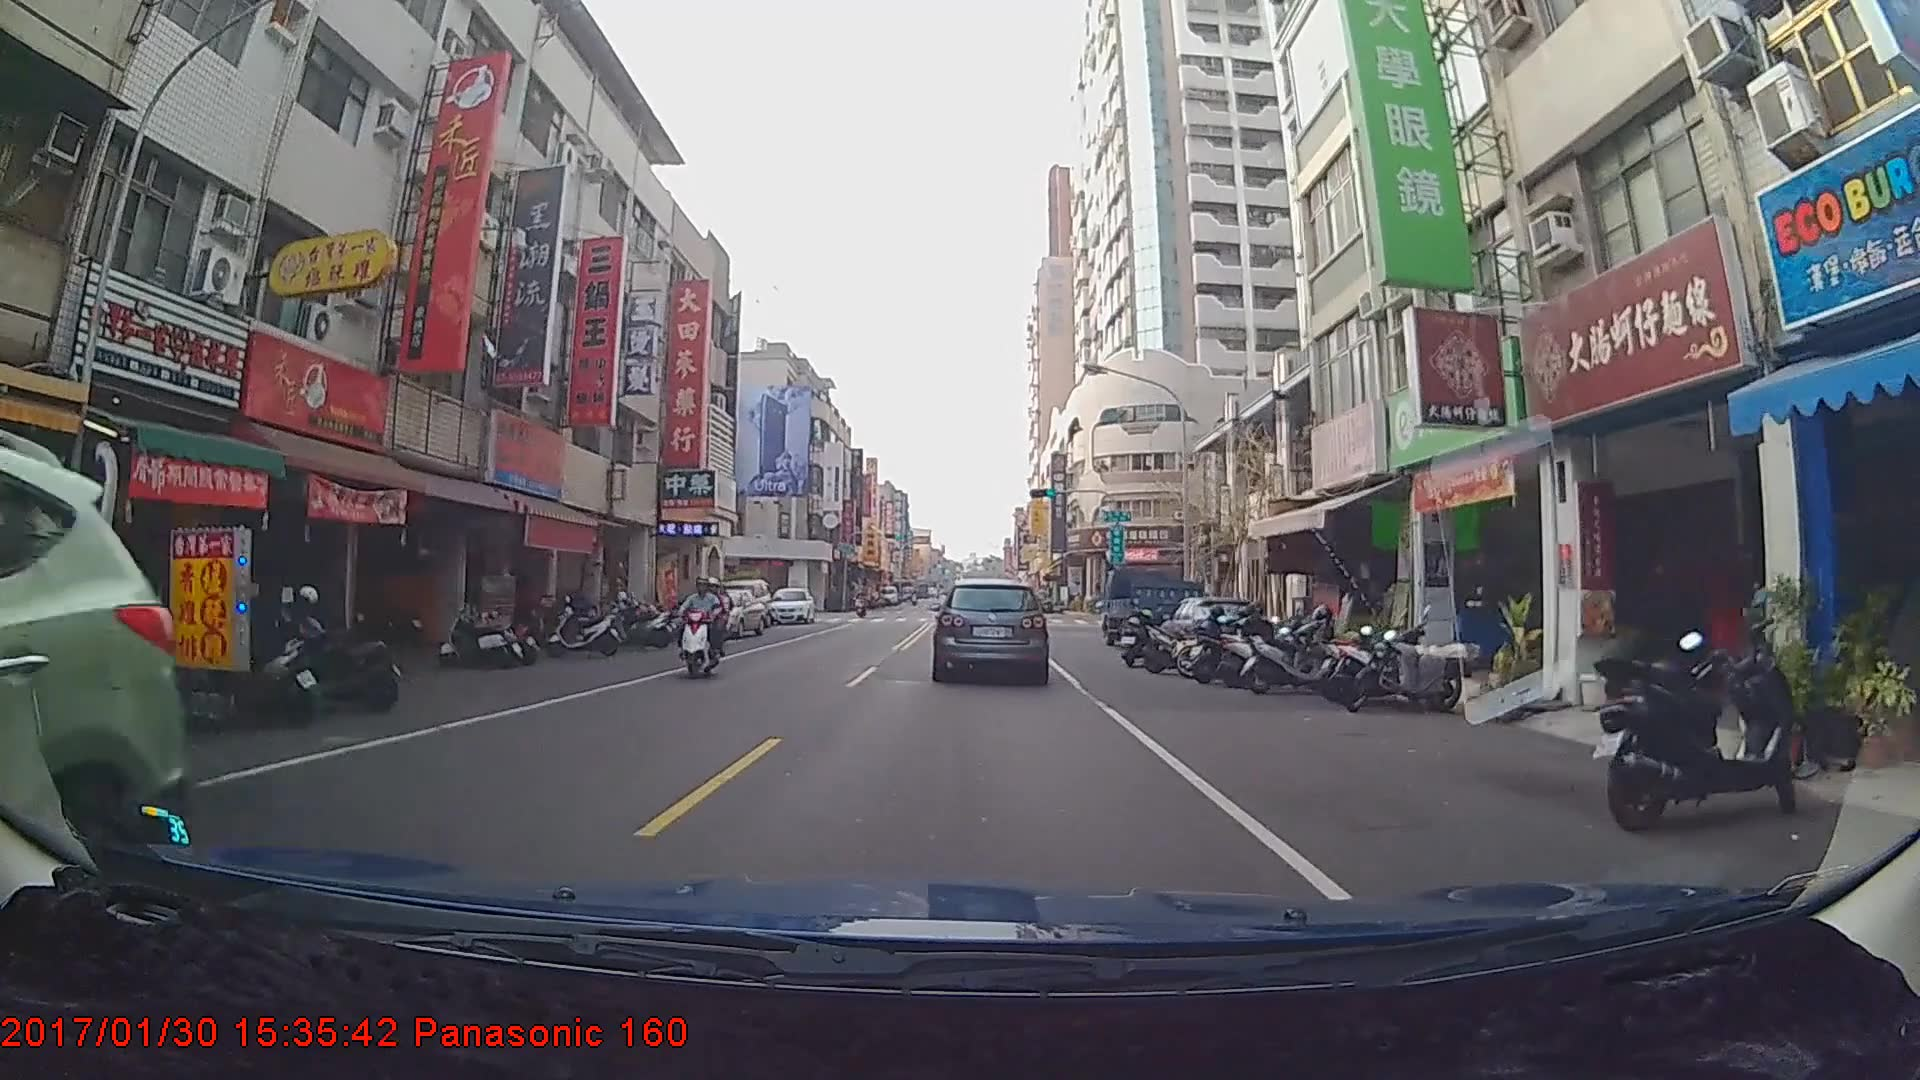rider: (675, 573, 734, 682), (852, 588, 872, 620)
vehicle: (0, 427, 188, 908), (935, 576, 1047, 681), (1098, 563, 1206, 648), (681, 586, 767, 639), (764, 586, 813, 627)
